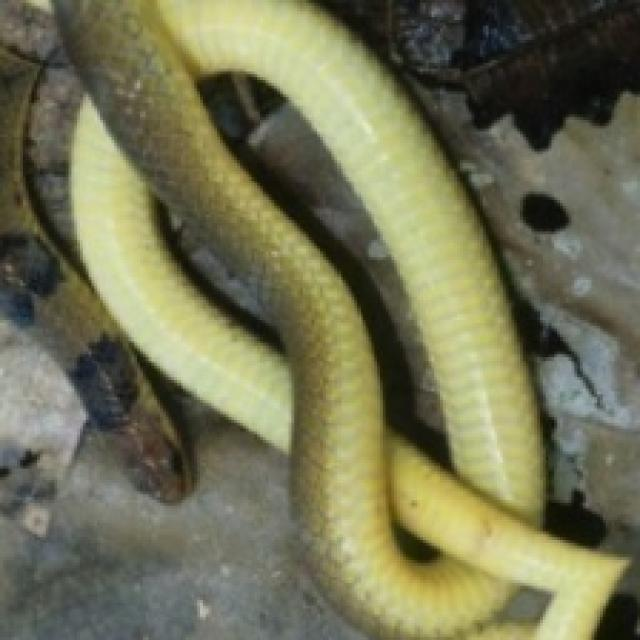luzon dwarf snake: (57, 0, 509, 637), (160, 3, 543, 523), (417, 457, 623, 637)
